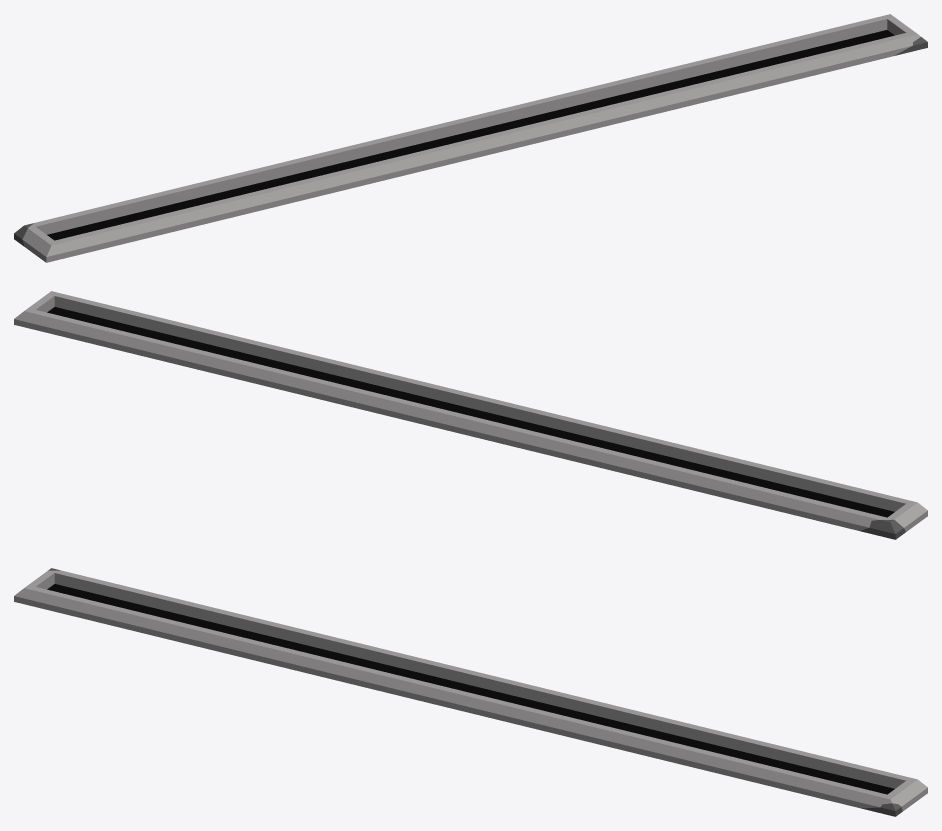
Rendered from MEDMetalSpikeRailTrap.fbx.
The picture shows the model from 3 angles, top to bottom: view 1: azimuth 30°, elevation 25°; view 2: azimuth 150°, elevation 25°; view 3: azimuth 330°, elevation 25°; orthographic projection.
Parts seen in each view (by area): view 1: MEDMetalSpikeRailTrap; view 2: MEDMetalSpikeRailTrap; view 3: MEDMetalSpikeRailTrap.
Boxes of the visible parts, x1,y1,x2,y2 form: MEDMetalSpikeRailTrap: (14, 14, 927, 262); MEDMetalSpikeRailTrap: (14, 291, 927, 539); MEDMetalSpikeRailTrap: (14, 568, 927, 816).
Size of the model in its own units: 180 by 2.68 by 11.46.
